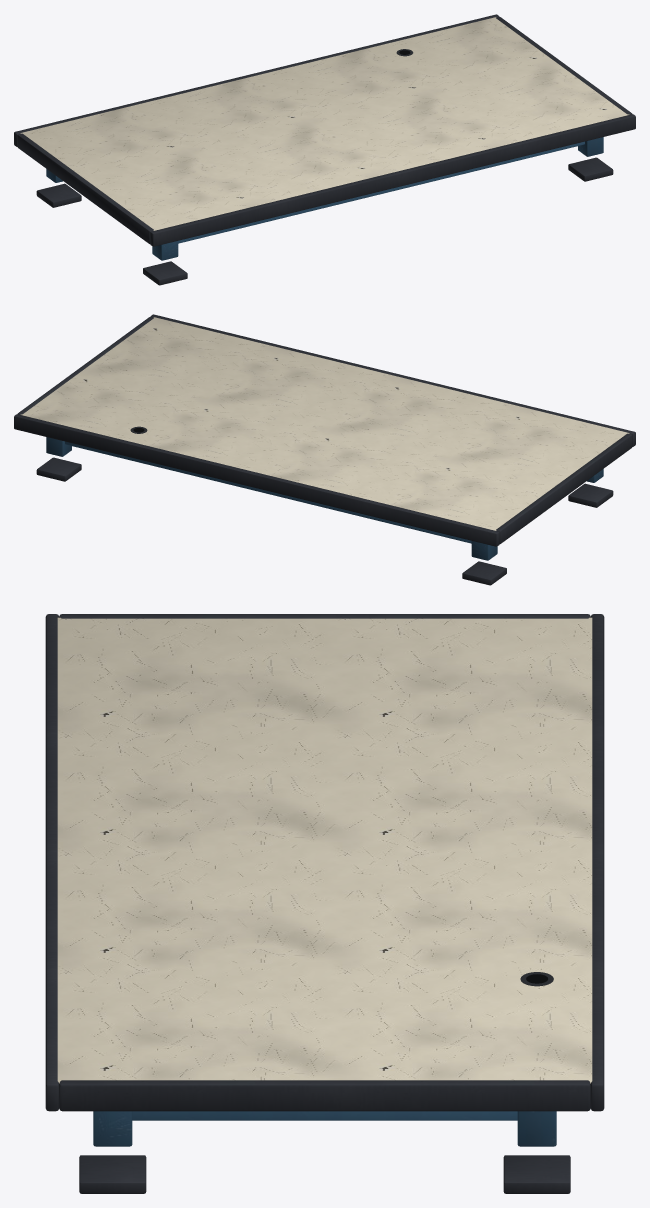
File: office_table.glb
3 renders of one model, top to bottom at view 1: azimuth 30°, elevation 25°; view 2: azimuth 150°, elevation 25°; view 3: azimuth 270°, elevation 25°, orthographic. The views are drawn at different scales.
Parts seen in each view (by area): view 1: OfficeTableBody; view 2: OfficeTableBody; view 3: OfficeTableBody.
Part boxes in pixels (box(x1,y1,x2,y2)): OfficeTableBody: box(14, 14, 635, 285); OfficeTableBody: box(14, 314, 635, 585); OfficeTableBody: box(45, 614, 604, 1193).
Size of the model in its own units: 2 by 0.2492 by 1.
7 materials, 5 textured.
